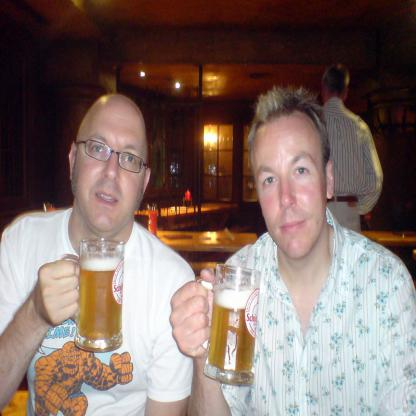drinking: (192, 264, 261, 385), (59, 238, 125, 352)
